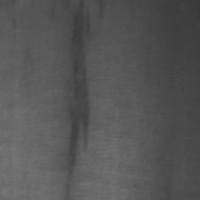inclusion: (56, 0, 101, 190)
